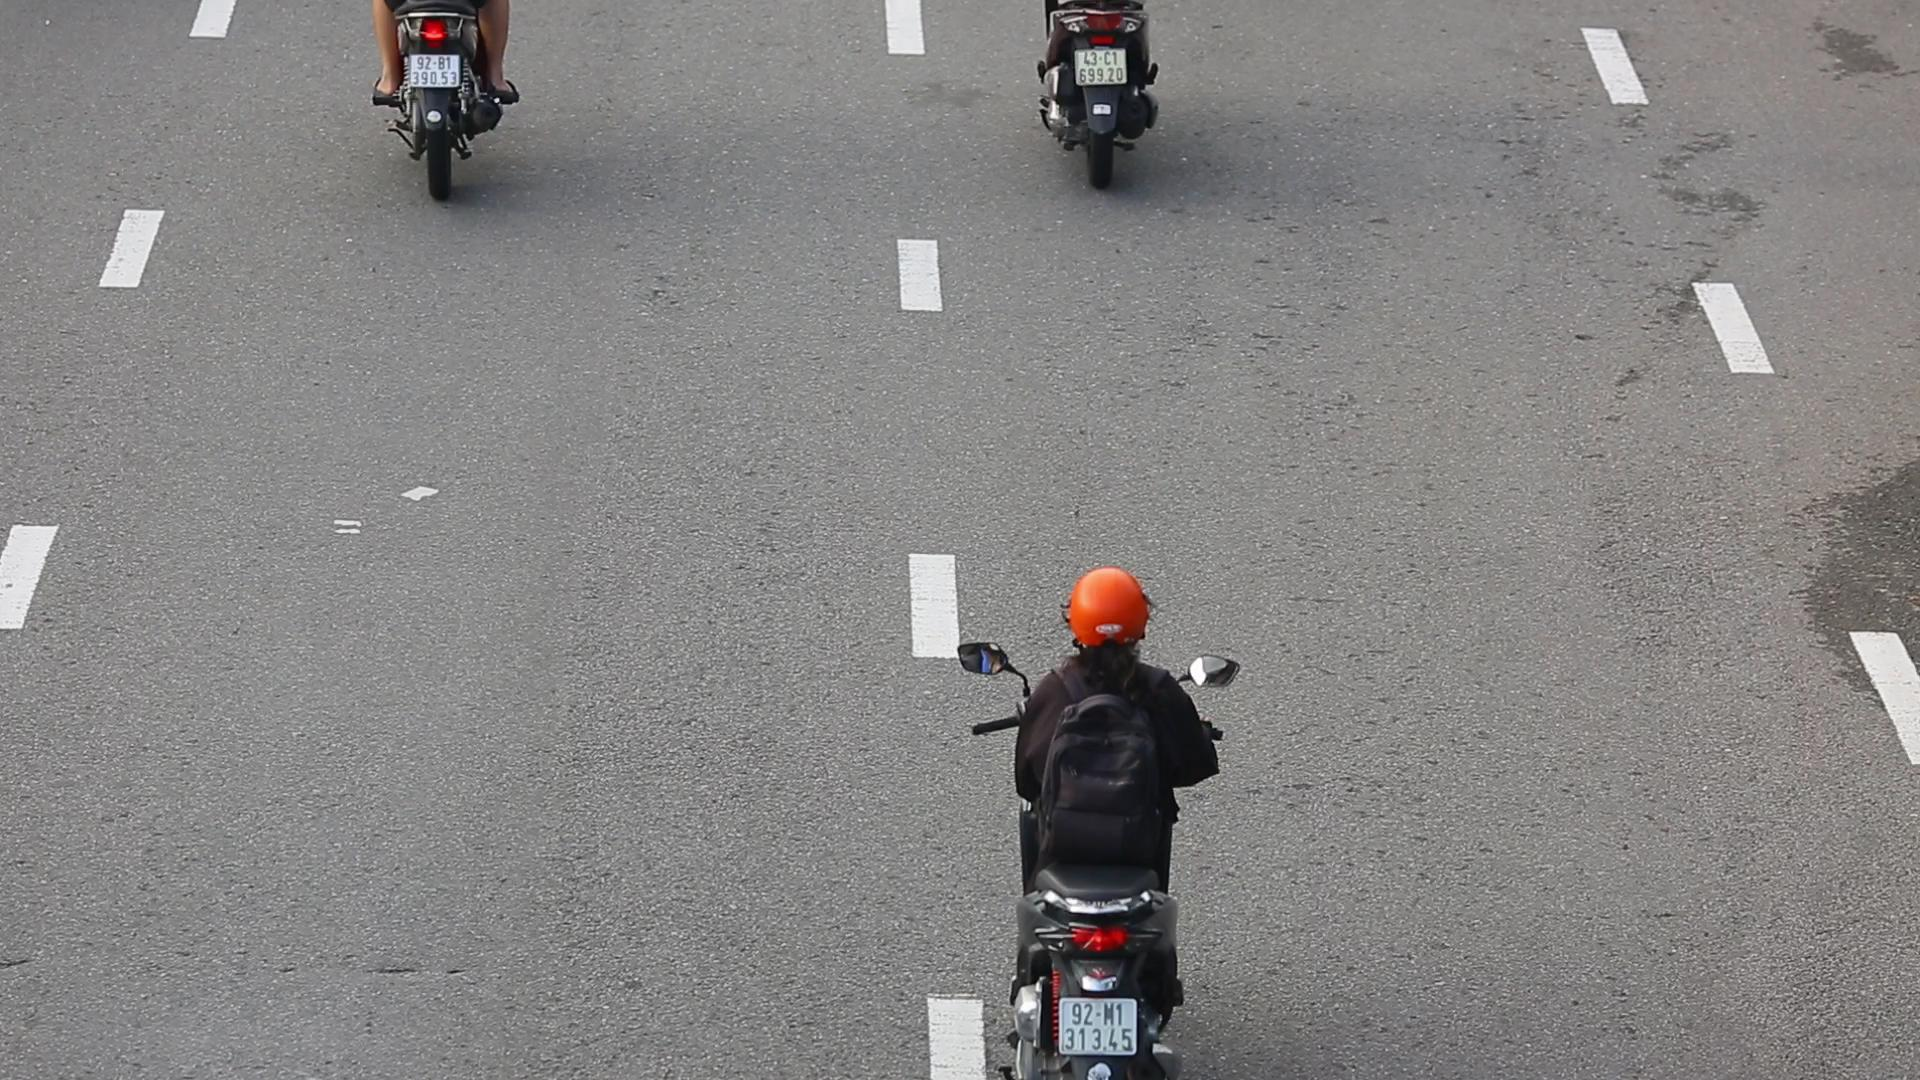motobike: (955, 558, 1246, 1080)
